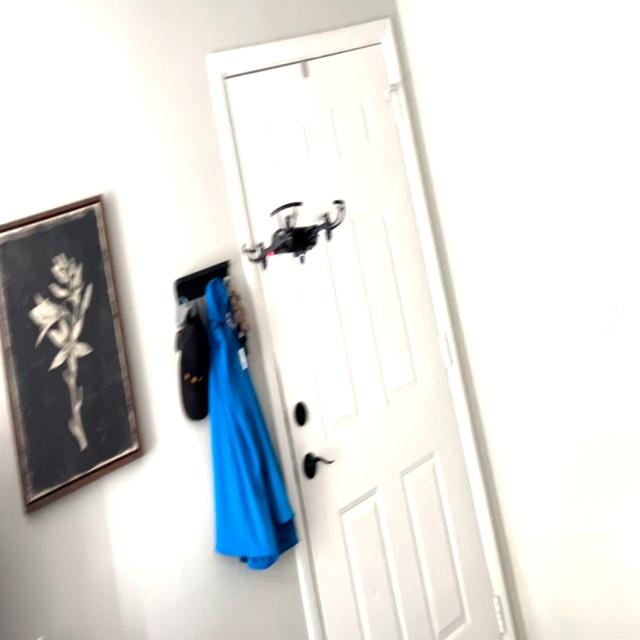drone: (238, 190, 350, 279)
